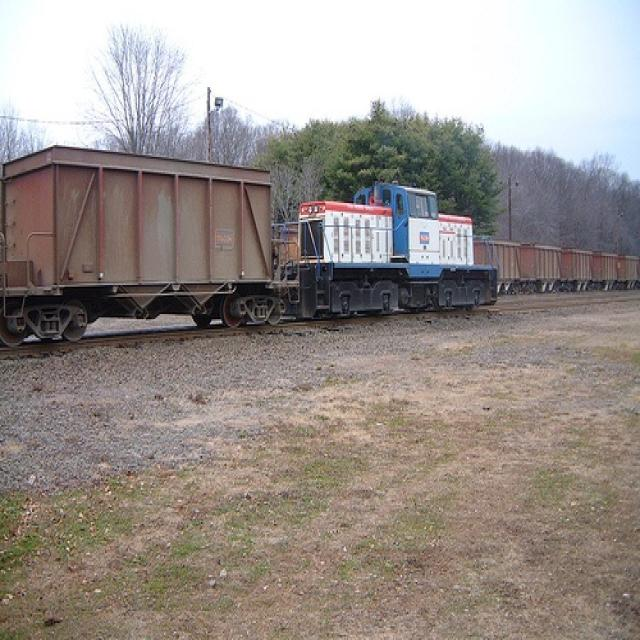train: (5, 145, 498, 343), (476, 239, 639, 297)
